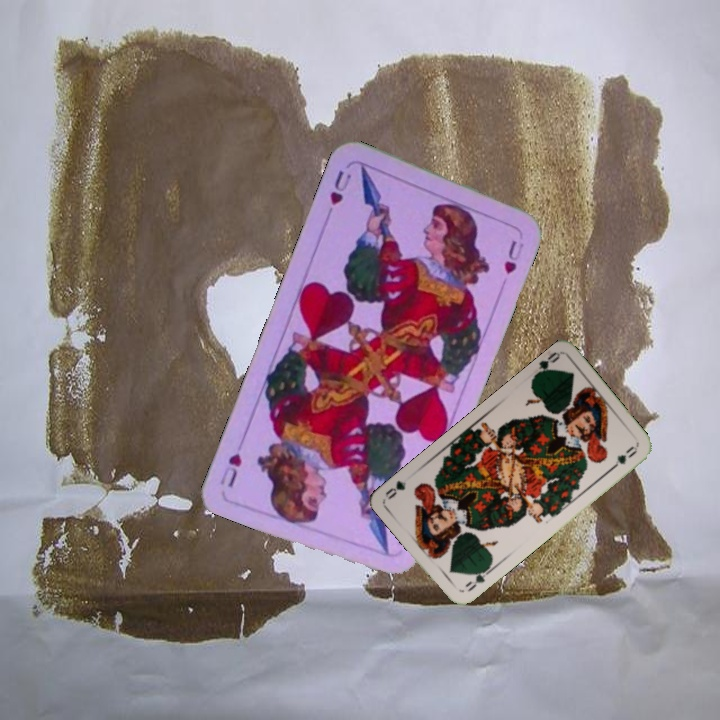GO: (529, 348, 562, 381), (461, 564, 494, 595)
HU: (326, 166, 354, 208)
